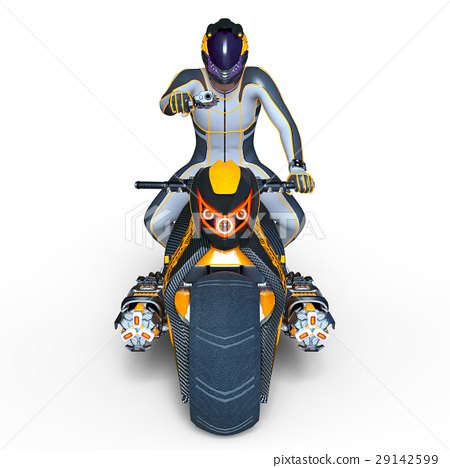helmet: (198, 18, 255, 82)
